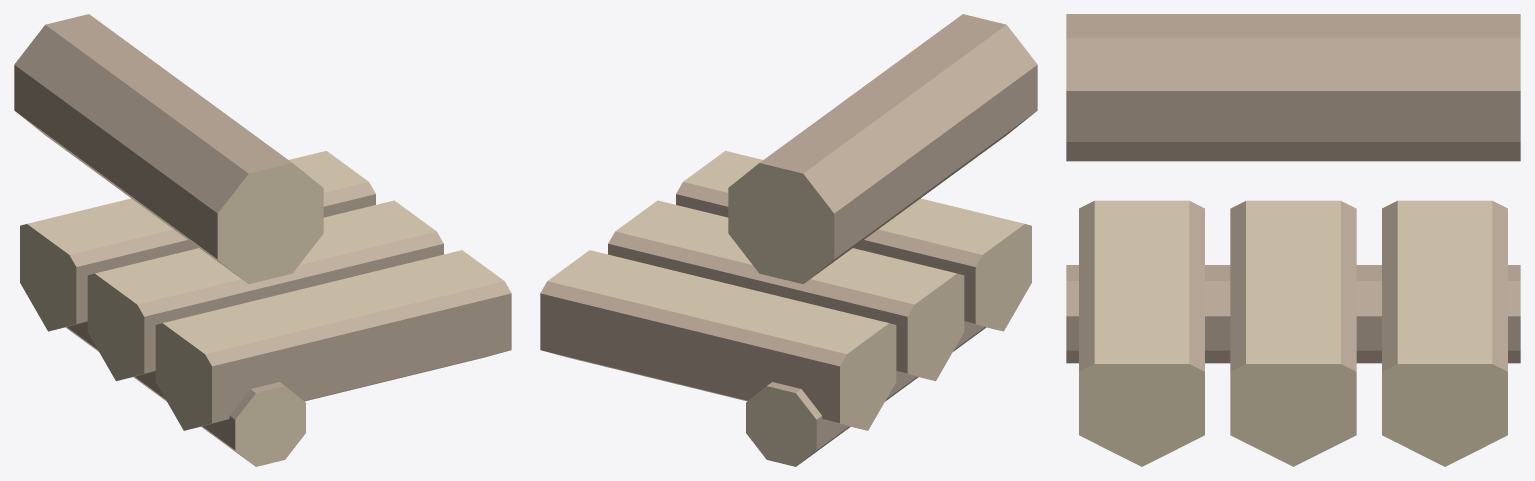
The model's file is Prop_Bridge_Log_Middle_Edge.glb.
The picture shows the model from 3 angles, left to right: view 1: azimuth 30°, elevation 25°; view 2: azimuth 150°, elevation 25°; view 3: azimuth 270°, elevation 25°; orthographic projection. The views are drawn at different scales.
Parts seen in each view (by area): view 1: object1; view 2: object1; view 3: object1.
Part boxes in pixels (x1,y1,x2,y2): object1: (14,14,511,466); object1: (540,14,1037,466); object1: (1066,14,1520,466).
Size of the model in its own units: 0.85 by 0.8 by 1.
